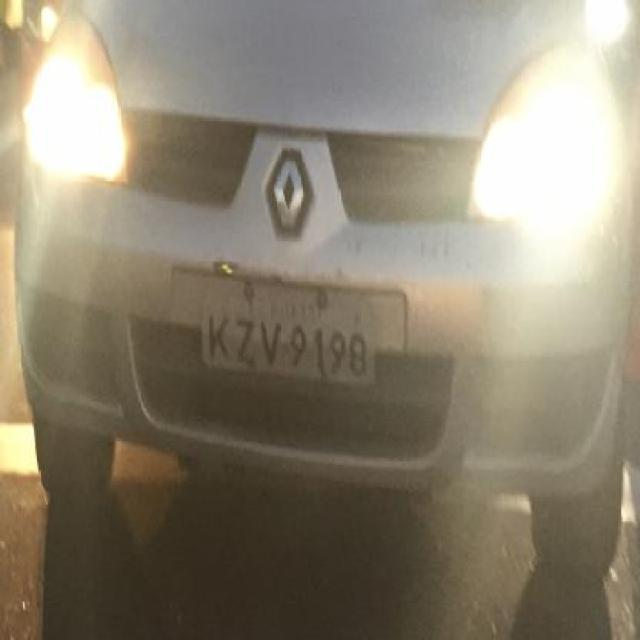old_plate: (193, 273, 383, 396)
